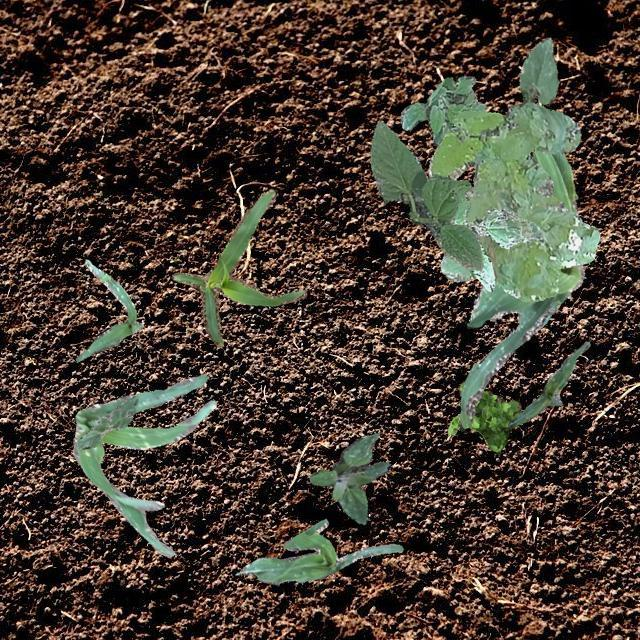crop: (458, 147, 584, 430), (72, 374, 214, 556), (170, 188, 306, 346), (368, 120, 482, 270), (238, 518, 402, 584), (506, 341, 590, 426), (74, 258, 142, 360), (504, 36, 558, 118), (72, 396, 136, 448)
weed: (428, 101, 598, 302), (449, 190, 538, 290), (308, 432, 388, 524), (398, 74, 484, 146), (446, 380, 520, 452)
